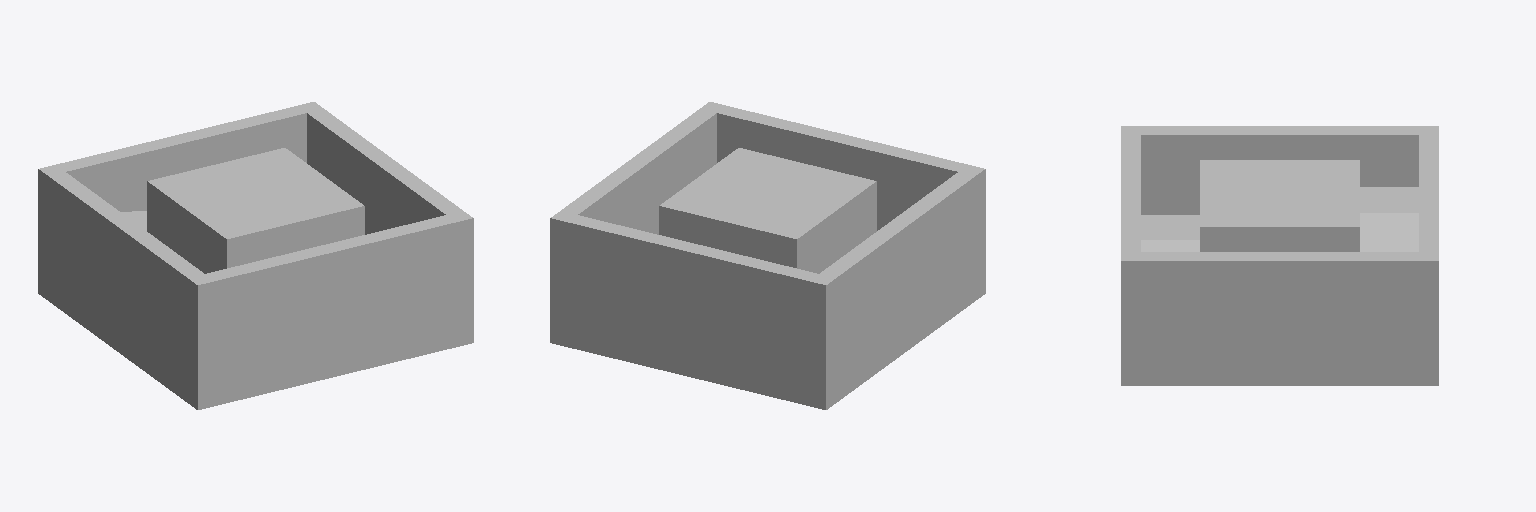
File: level 2.obj
The picture shows the model from 3 angles: view 1: azimuth 30°, elevation 25°; view 2: azimuth 150°, elevation 25°; view 3: azimuth 270°, elevation 25°; orthographic projection.
Visible parts, largest first — view 1: Outside_Clear, Inside_Clear; view 2: Outside_Clear, Inside_Clear; view 3: Outside_Clear, Inside_Clear, Cube.
Part boxes in pixels (bbox=[...]): Outside_Clear: bbox=[38, 102, 473, 409]; Inside_Clear: bbox=[147, 148, 364, 273]; Outside_Clear: bbox=[550, 102, 985, 409]; Inside_Clear: bbox=[659, 148, 876, 273]; Outside_Clear: bbox=[1121, 126, 1438, 385]; Inside_Clear: bbox=[1200, 160, 1359, 251]; Cube: bbox=[1141, 187, 1418, 251].
Bounding box in the file's own units: 128 × 55.45 × 128.